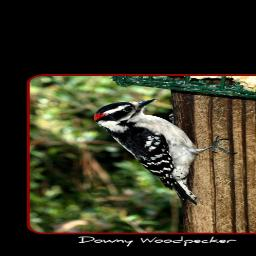Woodpecker: (92, 98, 241, 203)
